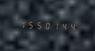five: (25, 18, 32, 30), (33, 19, 40, 30)
four: (65, 20, 72, 32), (57, 20, 64, 31)
one: (17, 18, 24, 29), (49, 20, 56, 31)
zero: (41, 19, 48, 31)
